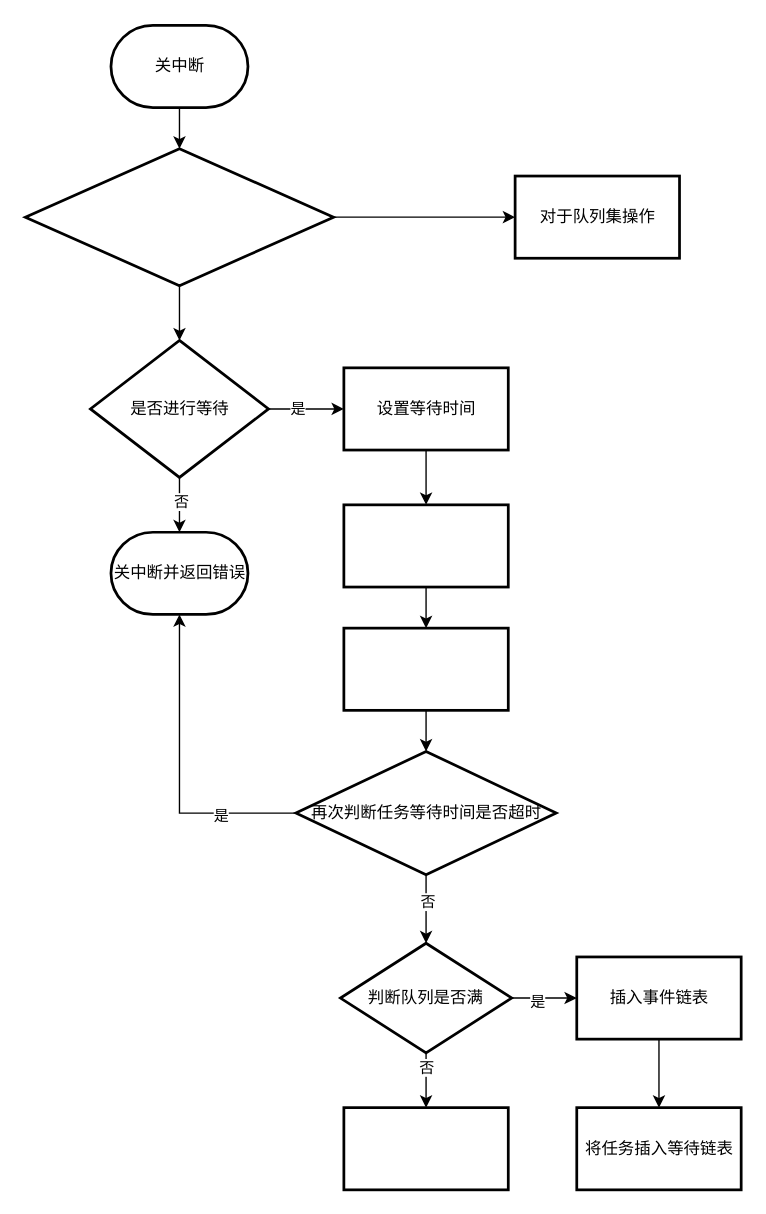
Image size: 766x1214. Some labels were removed from this diagram. The shapes that lost their labels are listed below. From the top down, each one's centre as x and y in pixels, then its label:
At point 178,216: "判断队列中是否还有空间或者是否允许进行覆盖".
At point 425,545: "关中断继续调度".
At point 425,668: "挂起调度器".
At point 425,1148: "恢复调度器，再次尝试".
